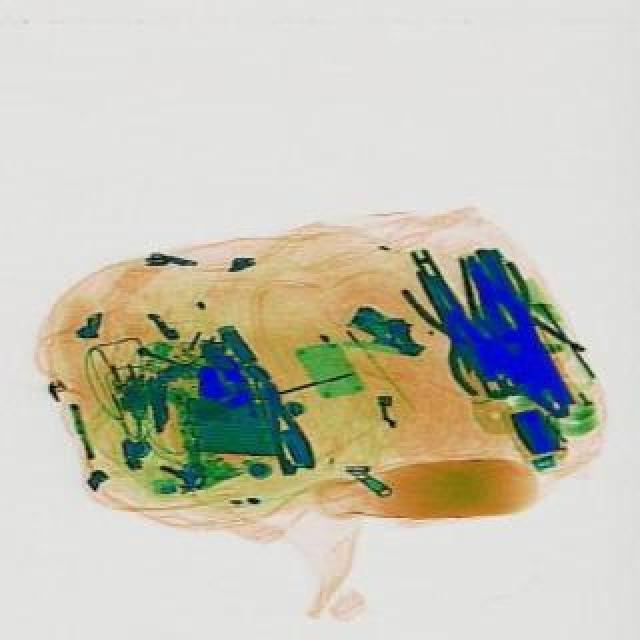wrench: (252, 370, 322, 474)
